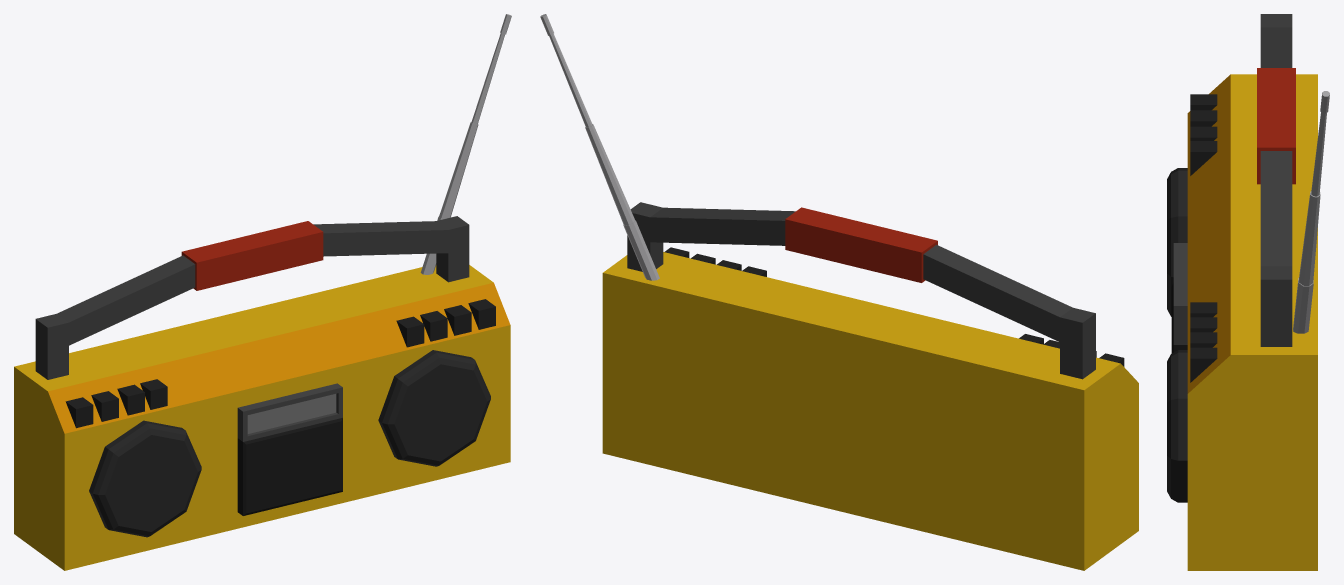
File: Radio.fbx
The picture shows the model from 3 angles, left to right: view 1: azimuth 30°, elevation 25°; view 2: azimuth 150°, elevation 25°; view 3: azimuth 270°, elevation 25°; orthographic projection. The views are drawn at different scales.
Visible parts, largest first — view 1: Cylinder.001; view 2: Cylinder.001; view 3: Cylinder.001.
Boxes of the visible parts, <box> form: Cylinder.001: <box>14,14,511,570</box>; Cylinder.001: <box>540,14,1138,570</box>; Cylinder.001: <box>1167,14,1329,570</box>.
Size of the model in its own units: 179 by 136 by 39.19.
